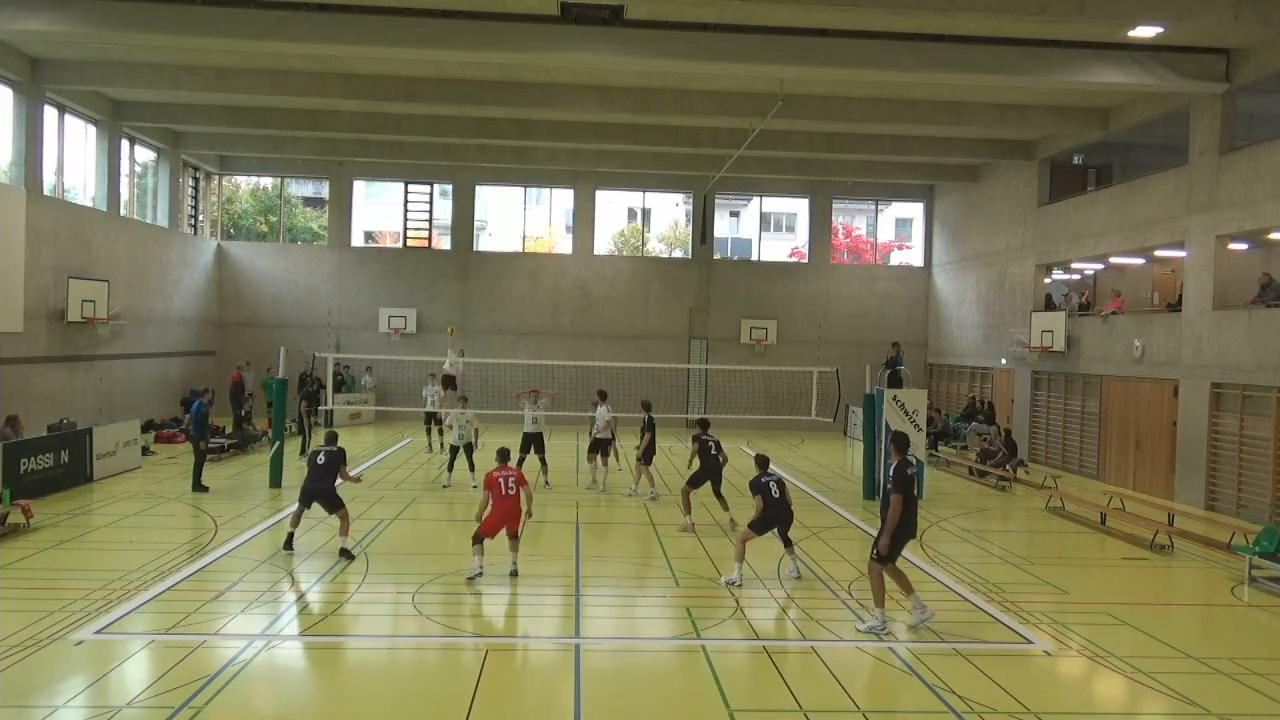battuta: (431, 330, 465, 452)
